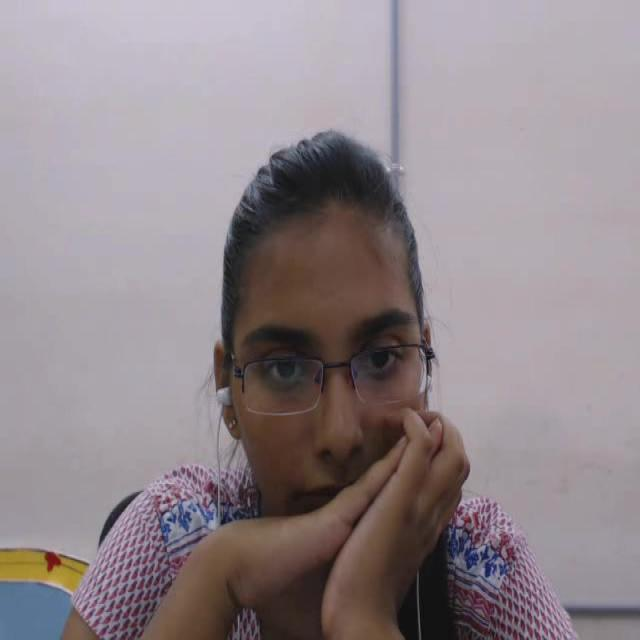Bored: (197, 91, 471, 565)
